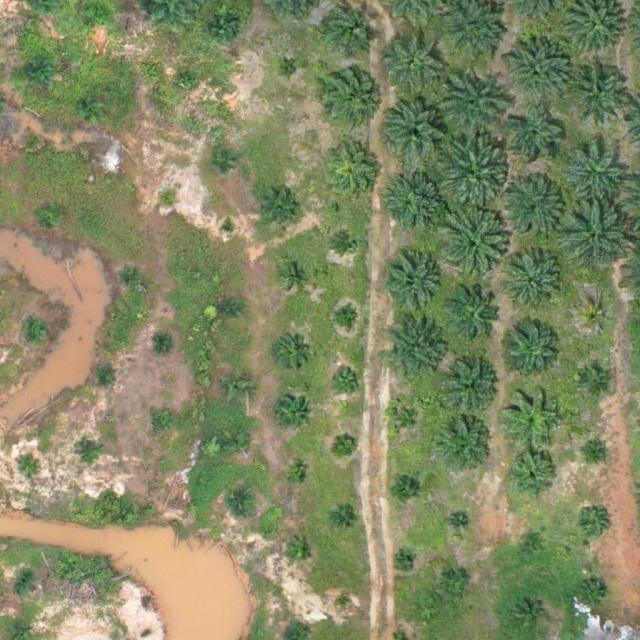Grass: (23, 59, 54, 90), (87, 4, 111, 28)
Healthy: (434, 134, 512, 212), (434, 209, 512, 287), (437, 69, 508, 139), (563, 204, 633, 274), (504, 38, 574, 108), (569, 60, 632, 123), (565, 142, 628, 205), (505, 108, 568, 171), (502, 176, 565, 239), (379, 27, 442, 90), (384, 174, 447, 237), (382, 254, 445, 317), (387, 318, 450, 381), (386, 100, 448, 163), (320, 65, 382, 128), (323, 141, 385, 204), (501, 386, 563, 449), (509, 257, 564, 312), (505, 317, 560, 372), (438, 417, 493, 472), (445, 359, 500, 414), (449, 289, 504, 344)
Small: (506, 449, 561, 504), (257, 191, 297, 230), (274, 395, 313, 435), (207, 12, 238, 44), (276, 335, 307, 367), (285, 537, 316, 569), (224, 371, 255, 403), (581, 366, 612, 397), (578, 509, 609, 540), (580, 580, 611, 611), (515, 600, 546, 631), (520, 529, 551, 560), (440, 573, 471, 604), (390, 473, 421, 504), (391, 405, 422, 436), (332, 365, 363, 396), (217, 299, 241, 323), (82, 98, 106, 122), (177, 70, 201, 94), (278, 59, 302, 83), (157, 189, 181, 213), (339, 232, 363, 256), (13, 573, 37, 597), (26, 322, 49, 346), (286, 466, 310, 489), (335, 305, 358, 329), (284, 264, 307, 288), (155, 333, 179, 356), (78, 442, 101, 466), (228, 432, 252, 455), (336, 433, 359, 457), (209, 151, 232, 175), (20, 127, 43, 151), (18, 457, 41, 481), (334, 511, 357, 534), (229, 493, 252, 516), (91, 363, 114, 386), (152, 412, 175, 435), (39, 204, 62, 227), (121, 265, 144, 288), (337, 597, 353, 613), (590, 445, 606, 461), (452, 514, 467, 530), (397, 554, 412, 570), (221, 220, 237, 235)
Yellow: (582, 303, 613, 334)
